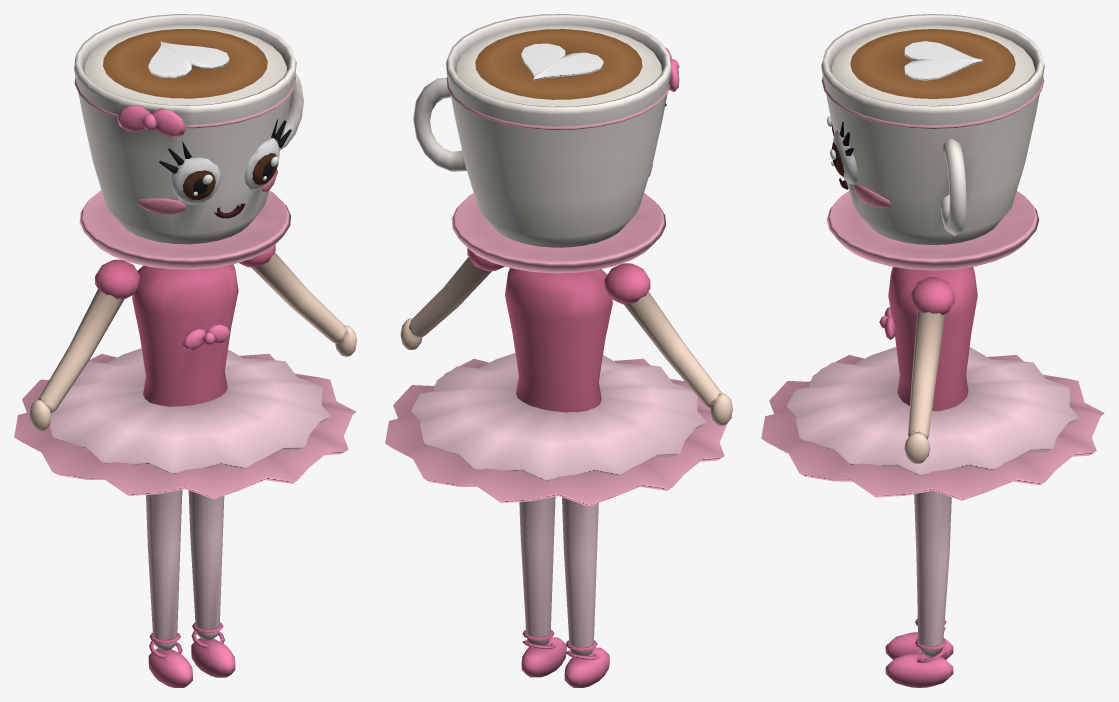
File: skin_cappuccina.glb
3 views of the same model, side by side, from view 1: azimuth 30°, elevation 25°; view 2: azimuth 150°, elevation 25°; view 3: azimuth 270°, elevation 25° (orthographic).
Visible parts, largest first — view 1: Head, Body, LegL, LegR, ArmL, ArmR, EyeL, EyeR; view 2: Head, Body, LegL, LegR, ArmL, ArmR; view 3: Head, Body, LegR, ArmR, EyeR, LegL.
Part boxes in pixels (x1,y1,x2,y2): Head: (74, 14, 303, 269); Body: (14, 264, 356, 499); LegL: (146, 490, 192, 687); LegR: (188, 490, 235, 677); ArmL: (29, 259, 140, 430); ArmR: (239, 244, 356, 356); EyeL: (159, 141, 220, 204); EyeR: (244, 119, 291, 190); Head: (413, 14, 679, 273); Body: (385, 268, 732, 506); LegL: (562, 497, 609, 687); LegR: (519, 497, 566, 677); ArmL: (604, 263, 732, 425); ArmR: (400, 248, 504, 349); Head: (821, 14, 1044, 270); Body: (761, 267, 1104, 500); LegR: (885, 490, 953, 687); ArmR: (904, 277, 954, 463); EyeR: (830, 121, 857, 184); LegL: (885, 618, 953, 659).
Bounding box in the file's own units: 3.35 × 6.08 × 3.07.
